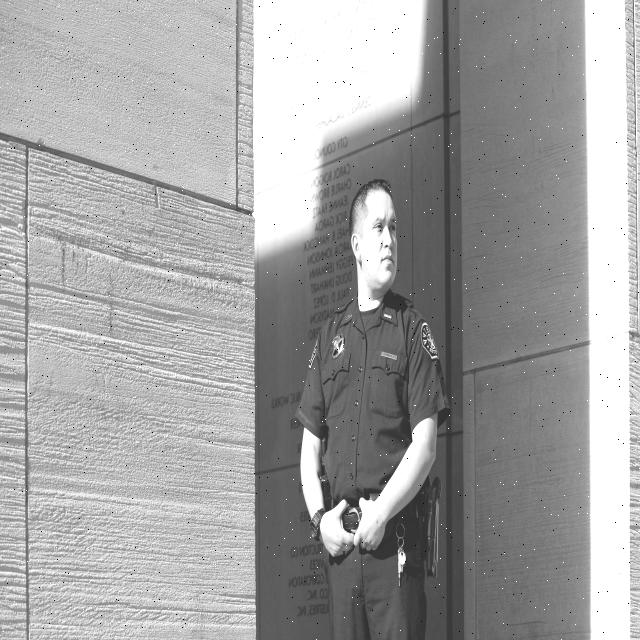police: (276, 156, 478, 640)
